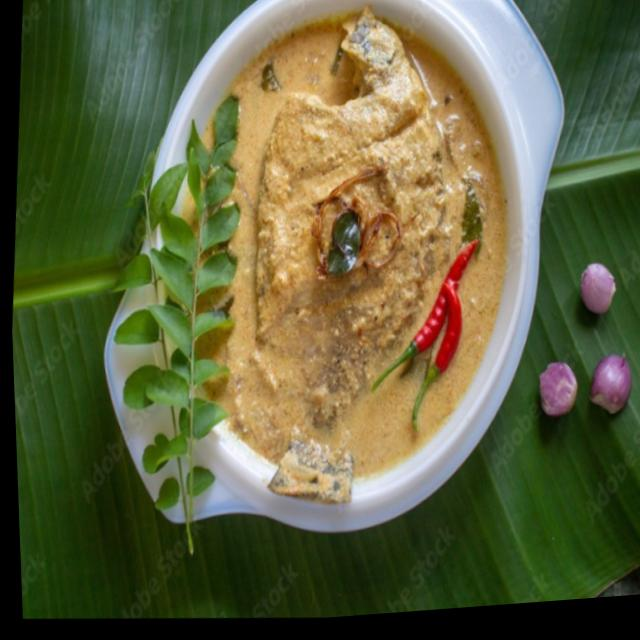FISH CURRY: (200, 6, 506, 501)
